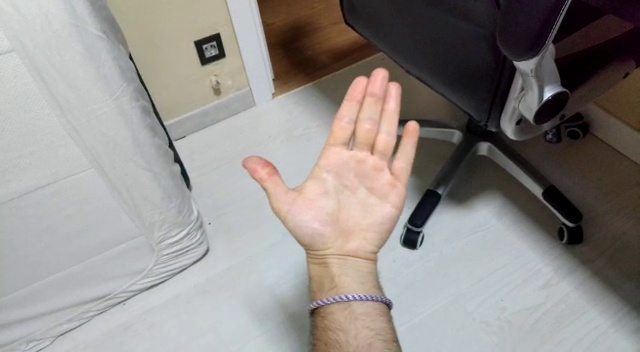Palm: (240, 65, 423, 252)
